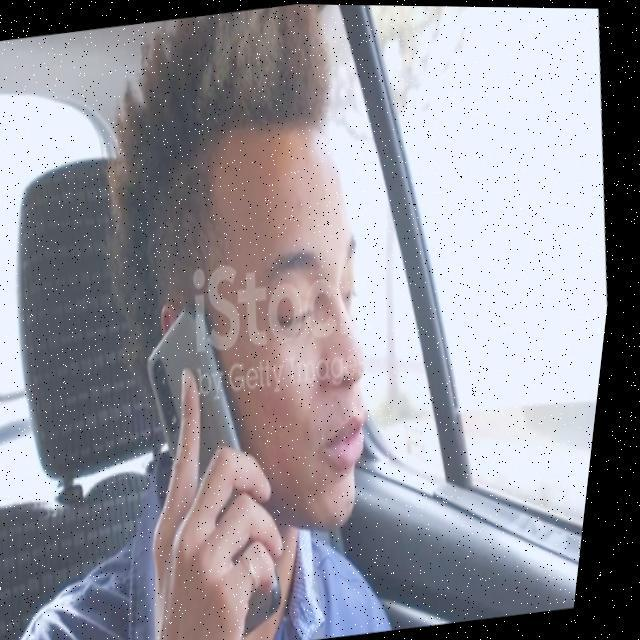PhoneCall: (120, 288, 332, 640)
